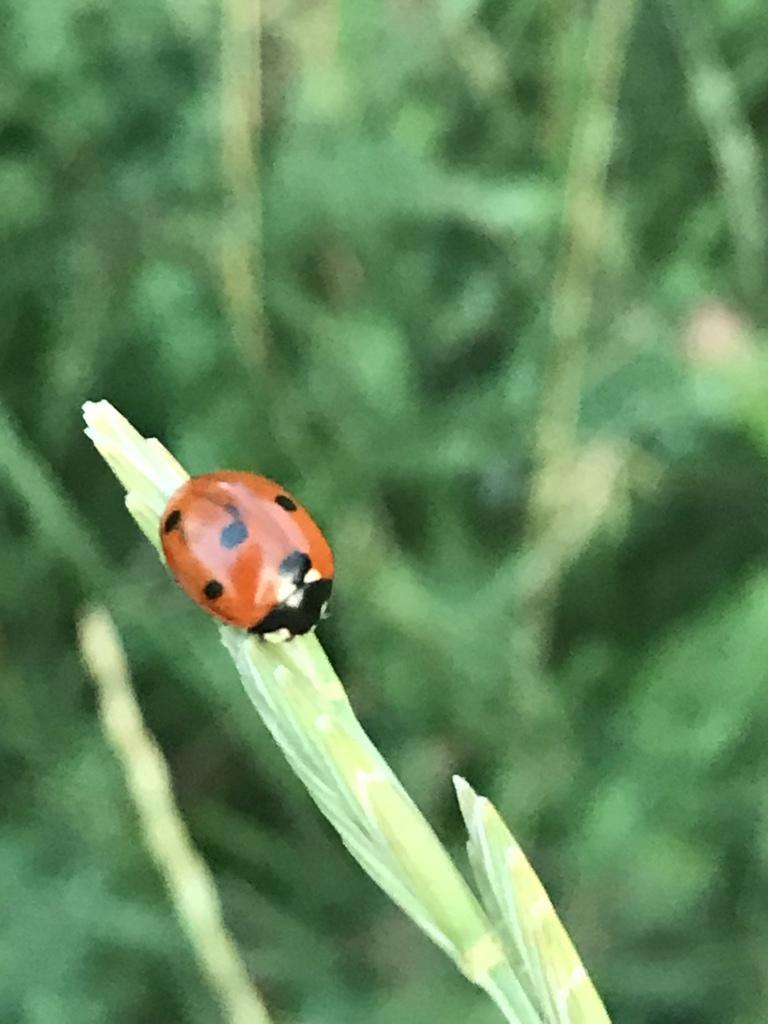ladybug: (159, 469, 341, 651)
